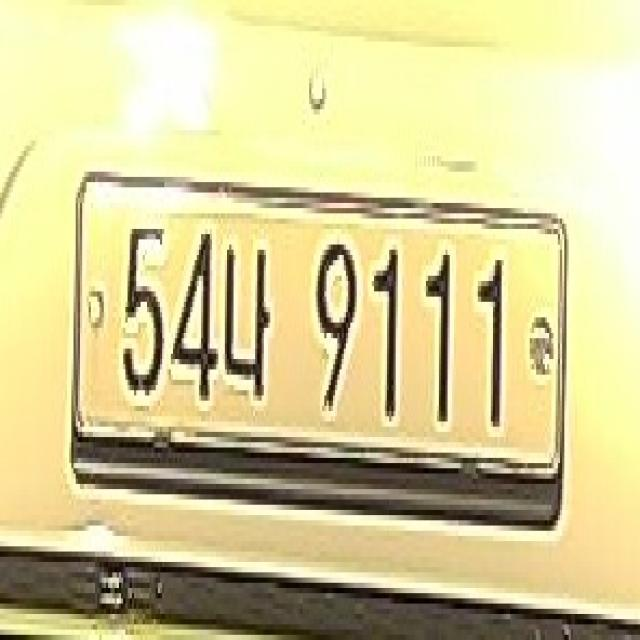na: (218, 244, 279, 406)
